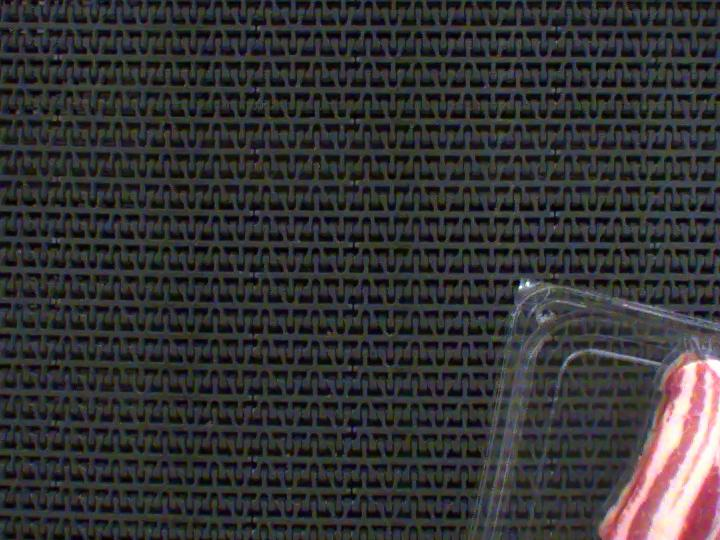unsealed: (647, 317, 720, 453)
